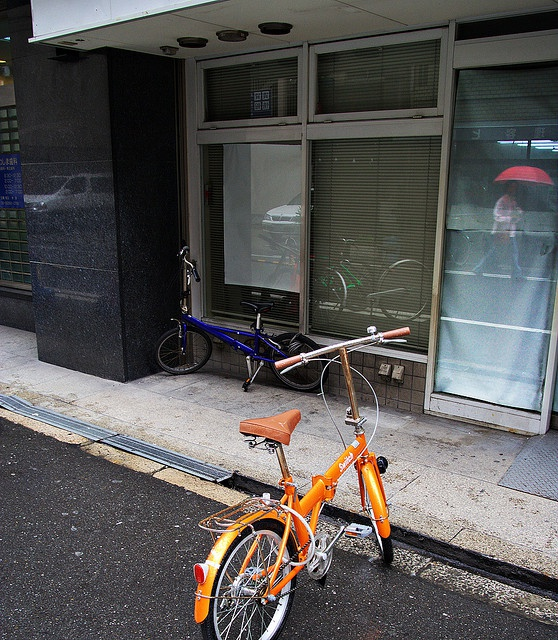non-vehicle: (198, 324, 414, 630), (157, 238, 320, 392), (335, 232, 432, 323)
